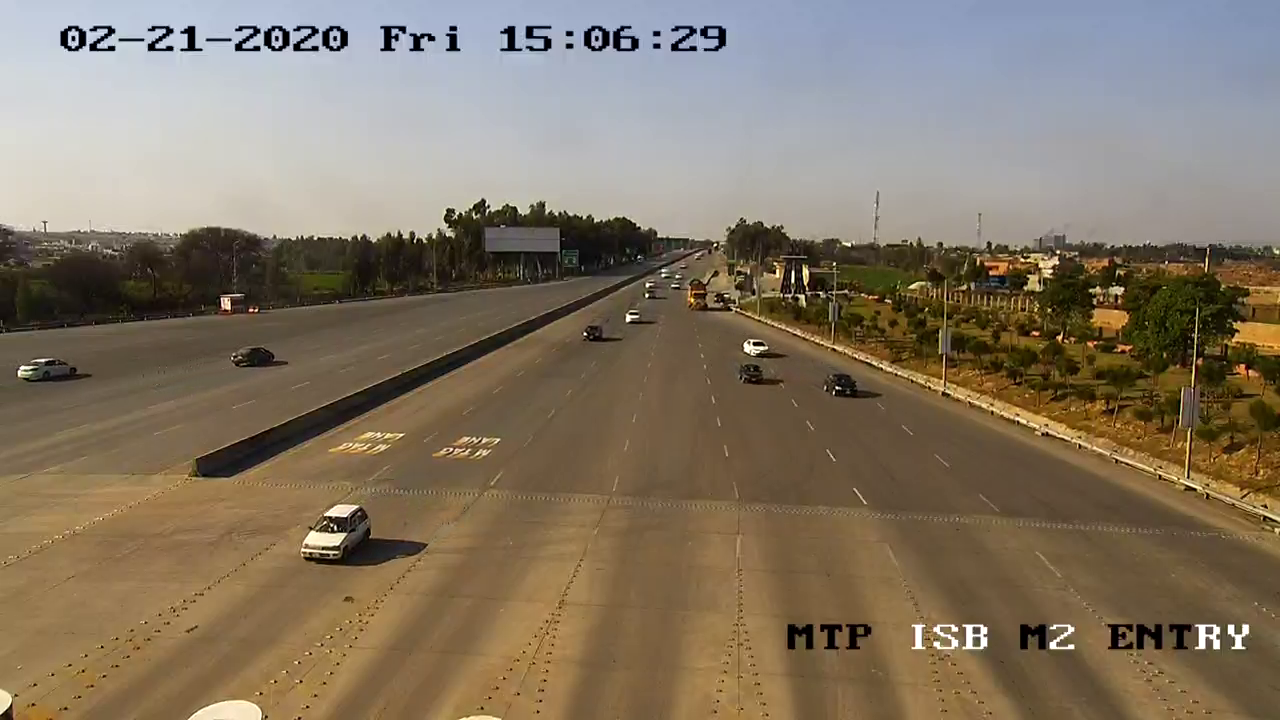f1: (287, 491, 379, 573), (811, 369, 874, 408), (729, 352, 775, 394)
